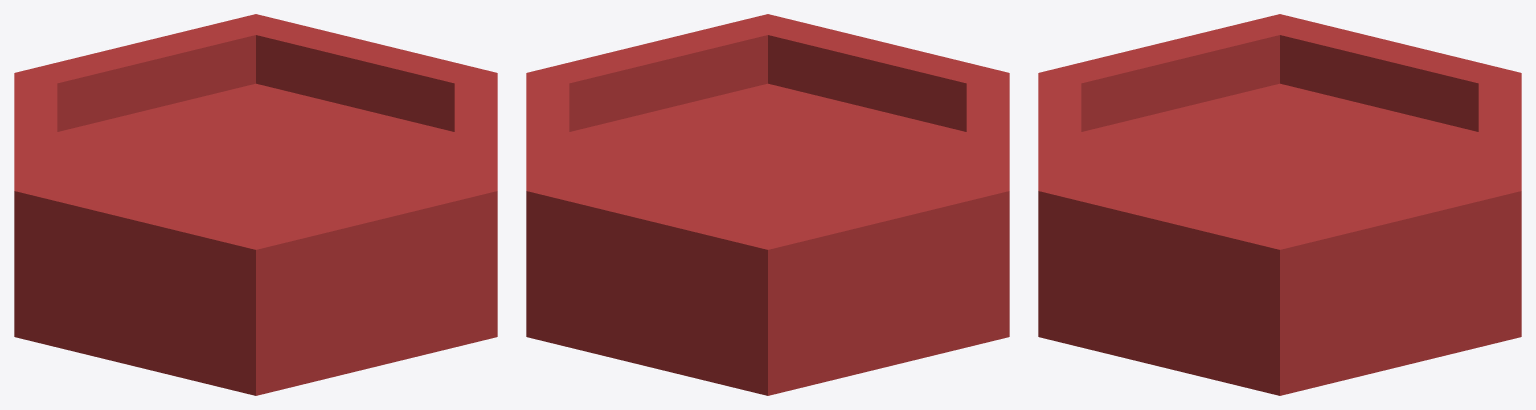
The model's file is Piece_1_bottom.fbx.
The picture shows the model from 3 angles, left to right: view 1: azimuth 30°, elevation 25°; view 2: azimuth 150°, elevation 25°; view 3: azimuth 270°, elevation 25°; orthographic projection.
Parts seen in each view (by area): view 1: 개체_1; view 2: 개체_1; view 3: 개체_1.
Part boxes in pixels (<box>): 개체_1: <box>14,14,497,395</box>; 개체_1: <box>526,14,1009,395</box>; 개체_1: <box>1038,14,1521,395</box>.
Size of the model in its own units: 5.2 by 4.5 by 1.5.
